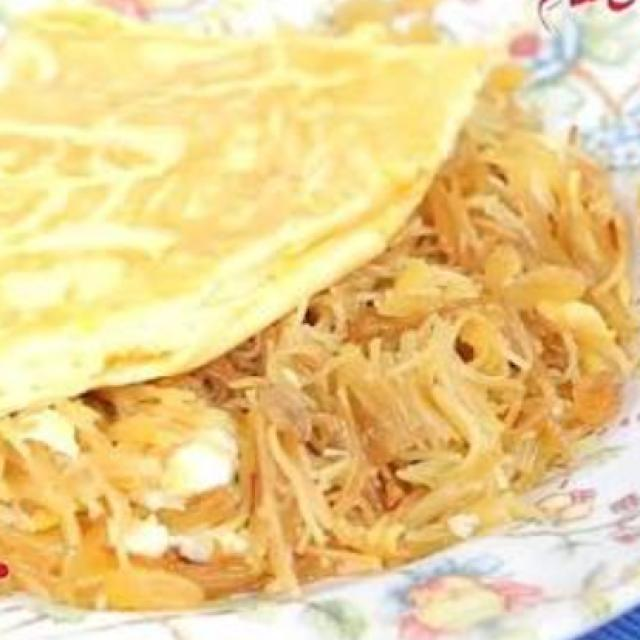Balaleet: (0, 12, 631, 603)
